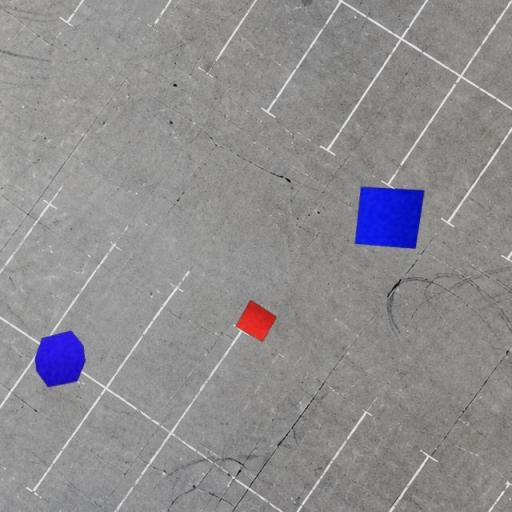BLUE_SQUARE: (354, 186, 425, 250)
RED_SQUARE: (235, 300, 278, 342)
